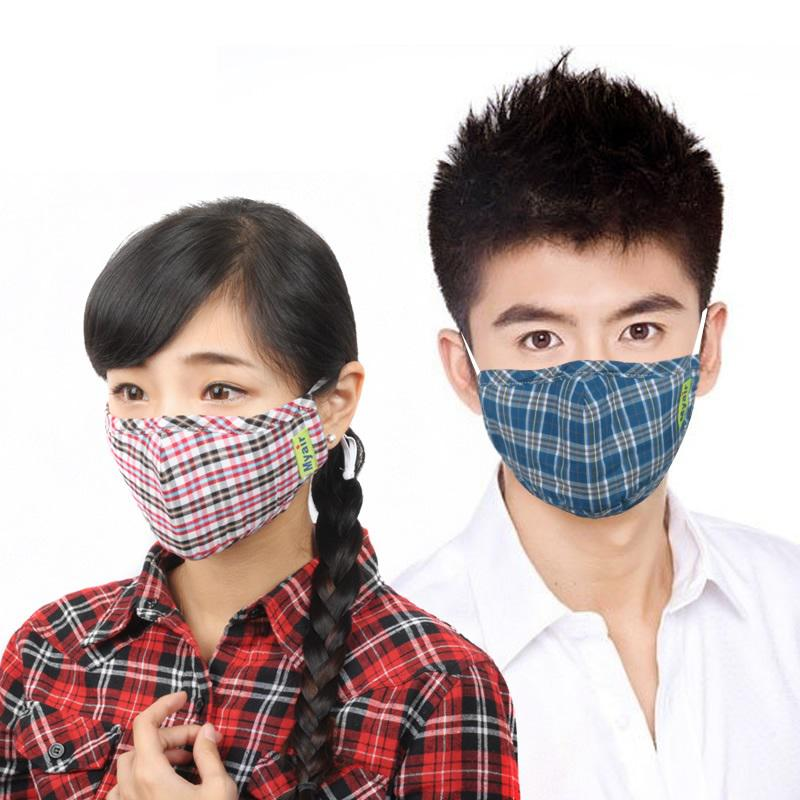OK: (476, 287, 699, 510), (108, 357, 286, 551)
